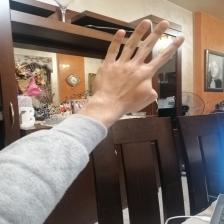four: (91, 18, 189, 116)
